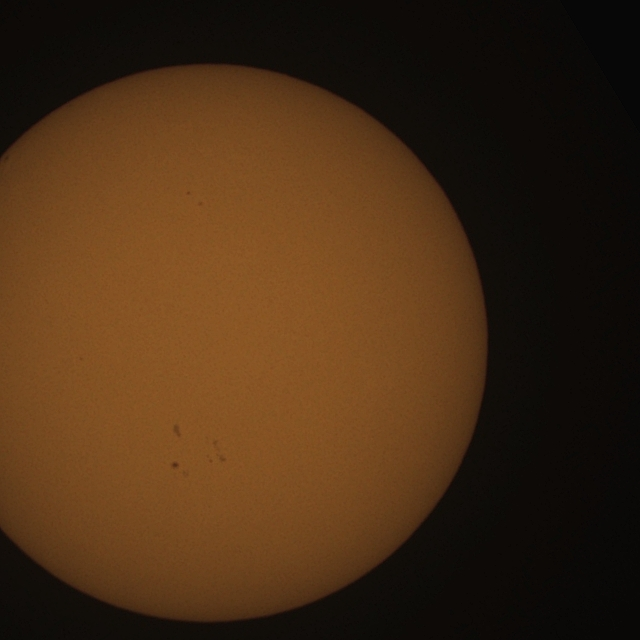sunspot: (171, 460, 189, 478), (206, 451, 228, 465), (172, 424, 182, 438), (206, 455, 213, 464), (197, 201, 204, 208), (186, 190, 192, 196)
